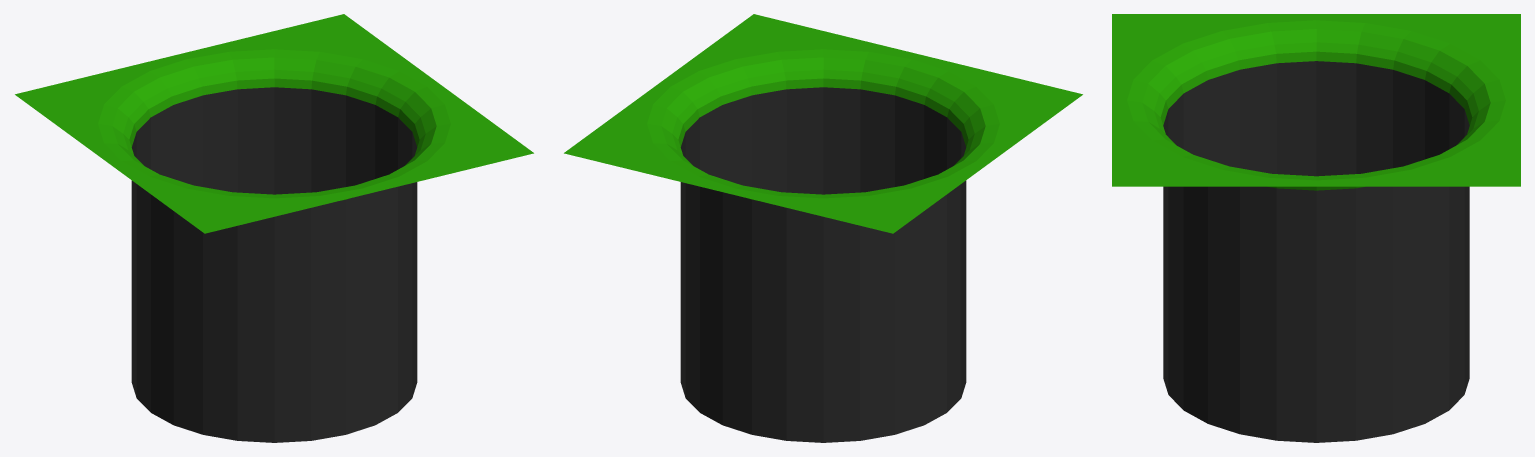
File: golfHole.fbx
The picture shows the model from 3 angles, left to right: view 1: azimuth 30°, elevation 25°; view 2: azimuth 150°, elevation 25°; view 3: azimuth 270°, elevation 25°; orthographic projection. The views are drawn at different scales.
Parts seen in each view (by area): view 1: golfHole; view 2: golfHole; view 3: golfHole.
Part boxes in pixels (x1,y1,x2,y2): golfHole: [15, 14, 533, 442]; golfHole: [564, 14, 1082, 442]; golfHole: [1112, 14, 1520, 442].
Size of the model in its own units: 200 by 150 by 200.
